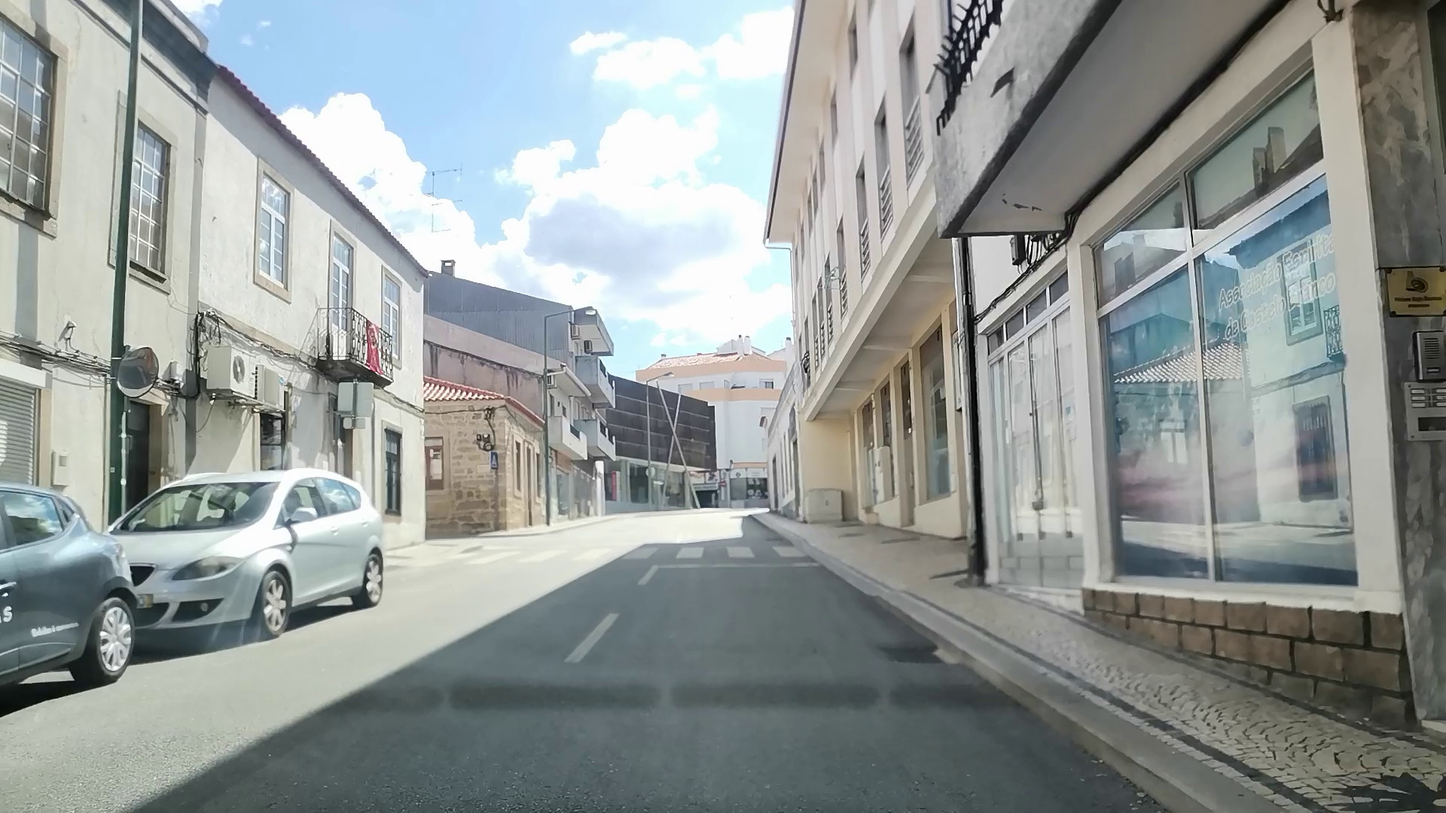Stairs: (440, 542, 805, 561)
